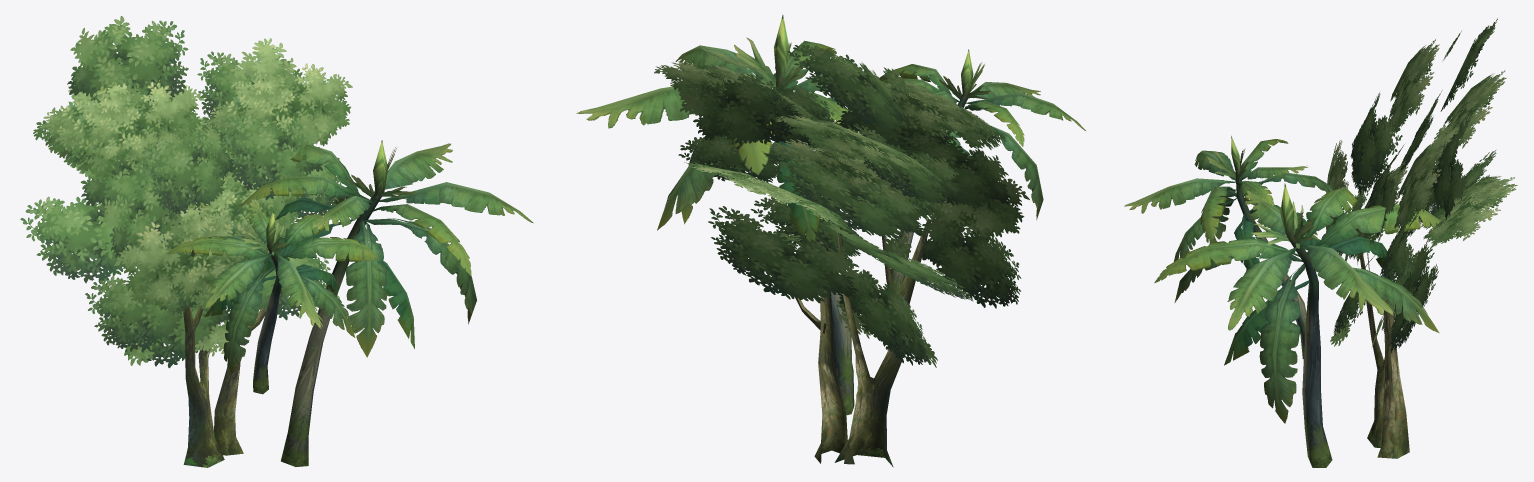
Rendered from shu_14.FBX.
The picture shows the model from 3 angles, left to right: view 1: azimuth 30°, elevation 25°; view 2: azimuth 150°, elevation 25°; view 3: azimuth 270°, elevation 25°; orthographic projection. The views are drawn at different scales.
Parts seen in each view (by area): view 1: shu_14; view 2: shu_14; view 3: shu_14.
Part boxes in pixels (<box>): shu_14: <box>20,16,533,467</box>; shu_14: <box>576,14,1085,467</box>; shu_14: <box>1124,18,1517,467</box>.
Bounding box in the file's own units: 685 × 663 × 606.
